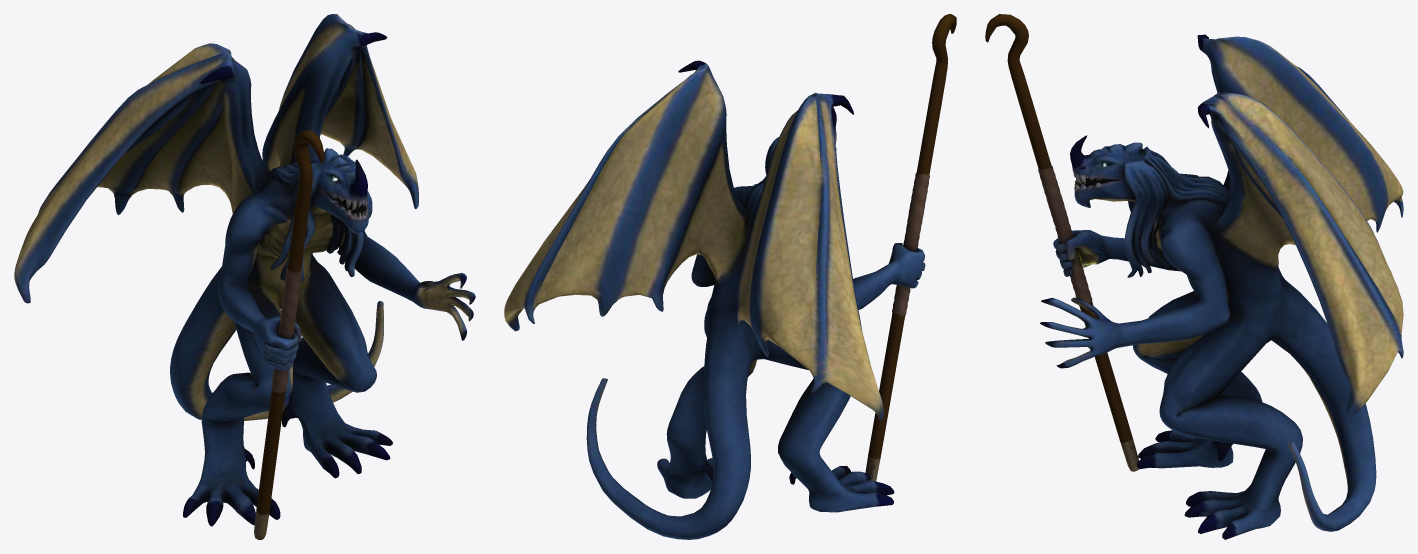
File: MZ4250 - Blue Abishai.glb
3 renders of one model, left to right at view 1: azimuth 30°, elevation 25°; view 2: azimuth 150°, elevation 25°; view 3: azimuth 270°, elevation 25°, orthographic. The views are drawn at different scales.
Visible parts, largest first — view 1: Cylinder.001; view 2: Cylinder.001; view 3: Cylinder.001.
Boxes of the visible parts, x1,y1,x2,y2 form: Cylinder.001: (14, 14, 475, 539); Cylinder.001: (504, 14, 956, 539); Cylinder.001: (985, 14, 1403, 539).
Size of the model in its own units: 0.9122 by 0.9993 by 0.845.
Materials: 1 (1 with a texture image).
